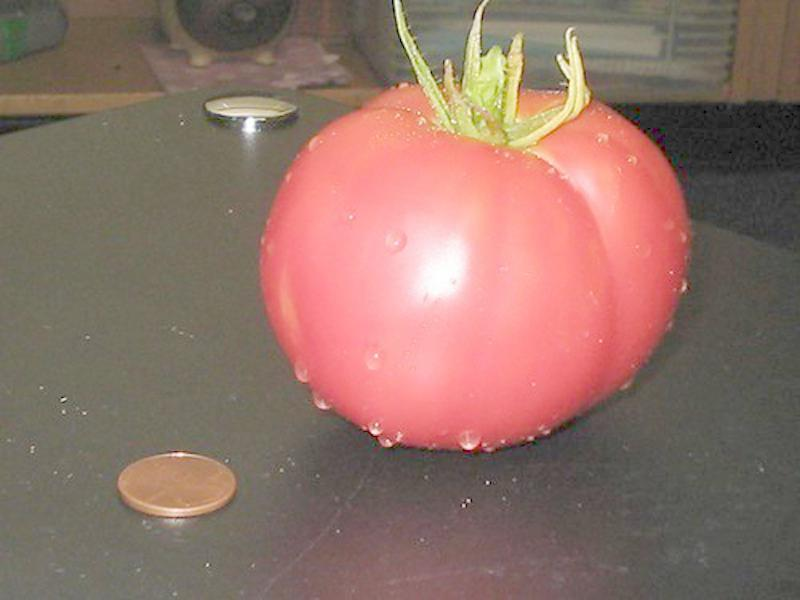Tomato: (261, 82, 691, 450)
